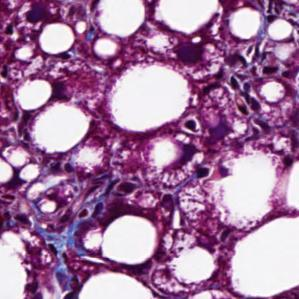inflammation: (55, 172, 139, 224), (219, 72, 266, 120)
